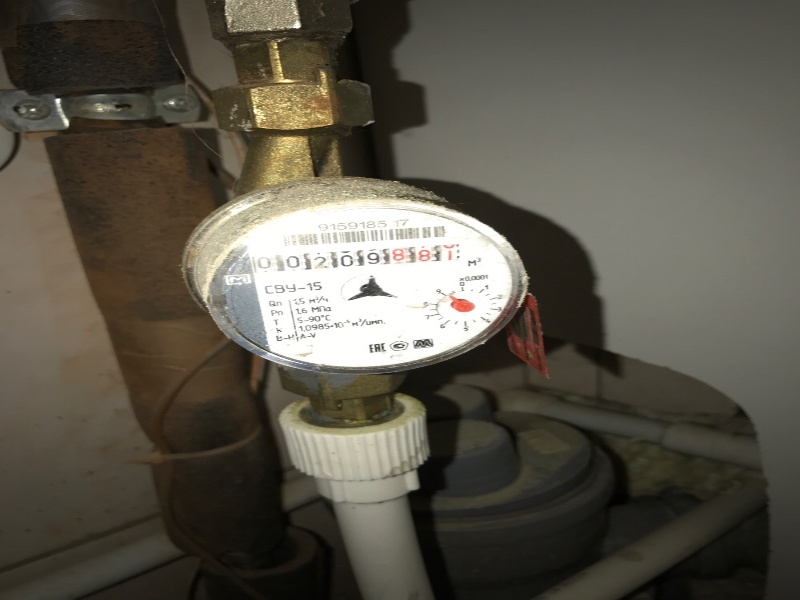dial: (253, 248, 460, 269)
